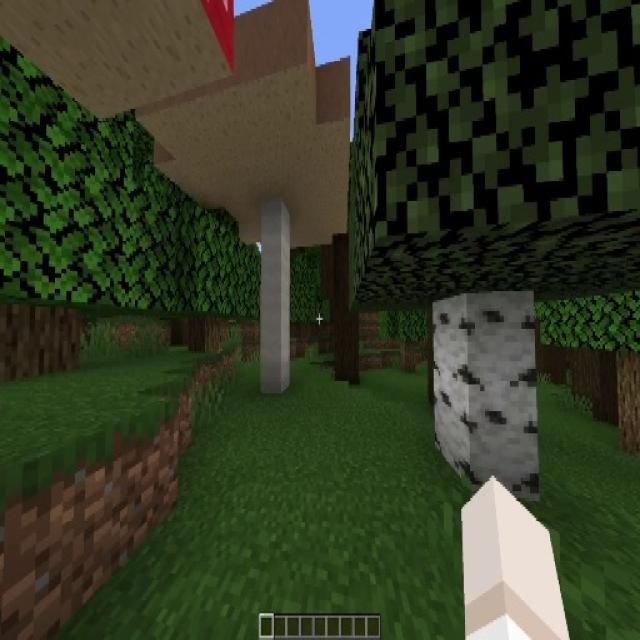birch: (354, 0, 640, 498)
birch_log: (432, 295, 538, 492)
dark_oak_log: (333, 230, 360, 389), (574, 347, 616, 420)
oak: (0, 57, 144, 381), (153, 196, 250, 355), (378, 284, 433, 372)
oak_log: (0, 297, 79, 375), (616, 349, 640, 449), (192, 316, 218, 354), (400, 339, 415, 371)
